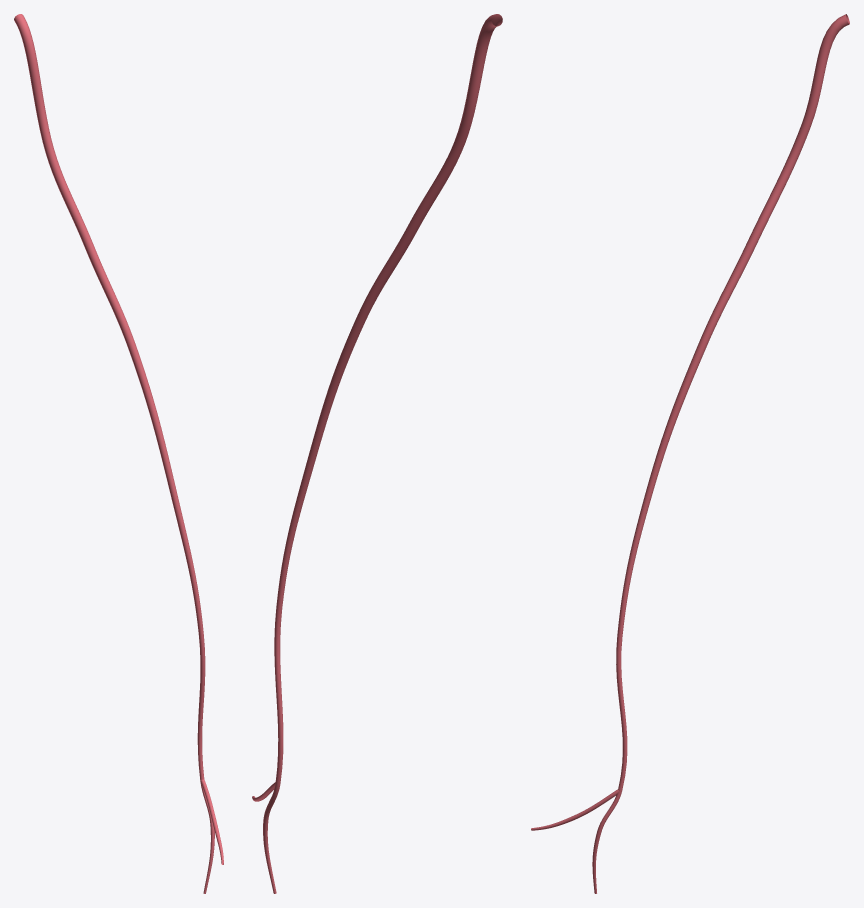
3 views of the same model, side by side, from view 1: azimuth 30°, elevation 25°; view 2: azimuth 210°, elevation 25°; view 3: azimuth 270°, elevation 25° (orthographic). The views are drawn at different scales.
Visible parts, largest first — view 1: ZA_66e457e3bf25ae46; view 2: ZA_66e457e3bf25ae46; view 3: ZA_66e457e3bf25ae46.
Part boxes in pixels (<box>): ZA_66e457e3bf25ae46: <box>14,14,223,893</box>; ZA_66e457e3bf25ae46: <box>252,14,502,893</box>; ZA_66e457e3bf25ae46: <box>531,14,849,893</box>.
Size of the model in its own units: 0.0224 by 0.2112 by 0.0722.
